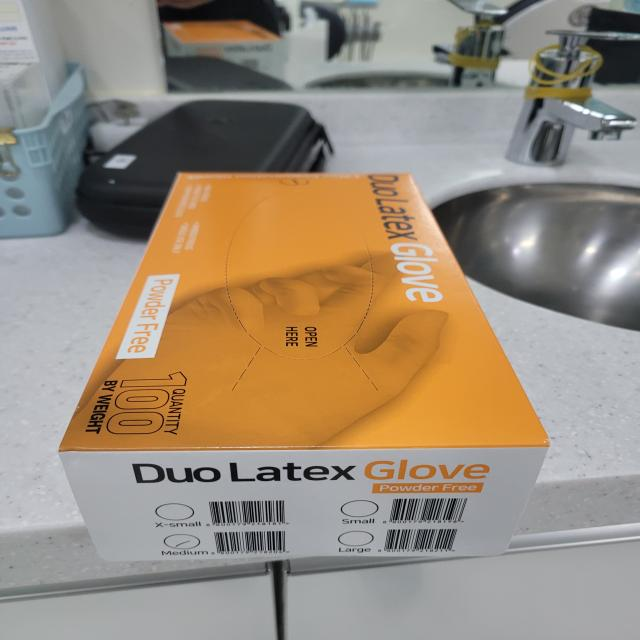glove: (50, 152, 622, 597)
